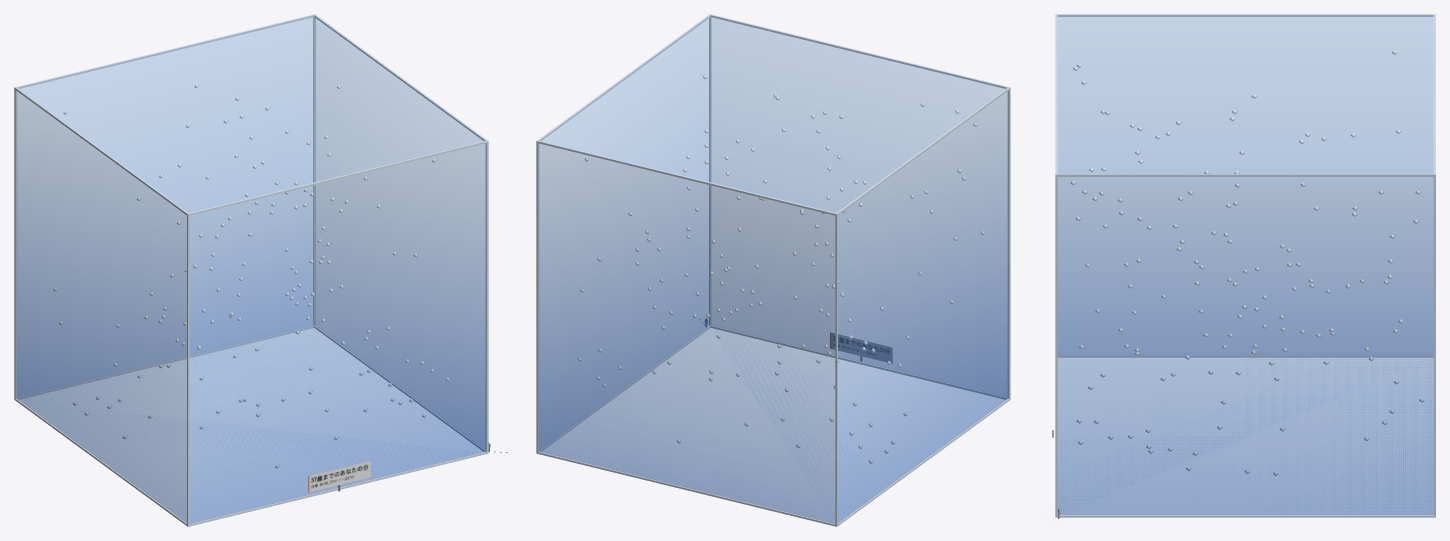
File: cube_life_37.glb
3 views of the same model, side by side, from view 1: azimuth 30°, elevation 25°; view 2: azimuth 150°, elevation 25°; view 3: azimuth 270°, elevation 25° (orthographic). The views are drawn at different scales.
Visible parts, largest first — view 1: co2, edge, dots, label; view 2: co2, edge, dots, label; view 3: co2, edge, dots.
Part boxes in pixels (x1,y1,x2,y2): co2: [16, 15, 485, 523]; edge: [14, 14, 488, 526]; dots: [53, 84, 449, 468]; label: [308, 461, 370, 492]; co2: [539, 15, 1008, 523]; edge: [536, 14, 1010, 526]; dots: [577, 75, 984, 463]; label: [830, 332, 892, 363]; co2: [1057, 15, 1434, 514]; edge: [1055, 14, 1435, 517]; dots: [1070, 50, 1424, 476].
Bounding box in the file's own units: 61.08 × 57.34 × 60.18.
Materials: 8 (3 with a texture image).
